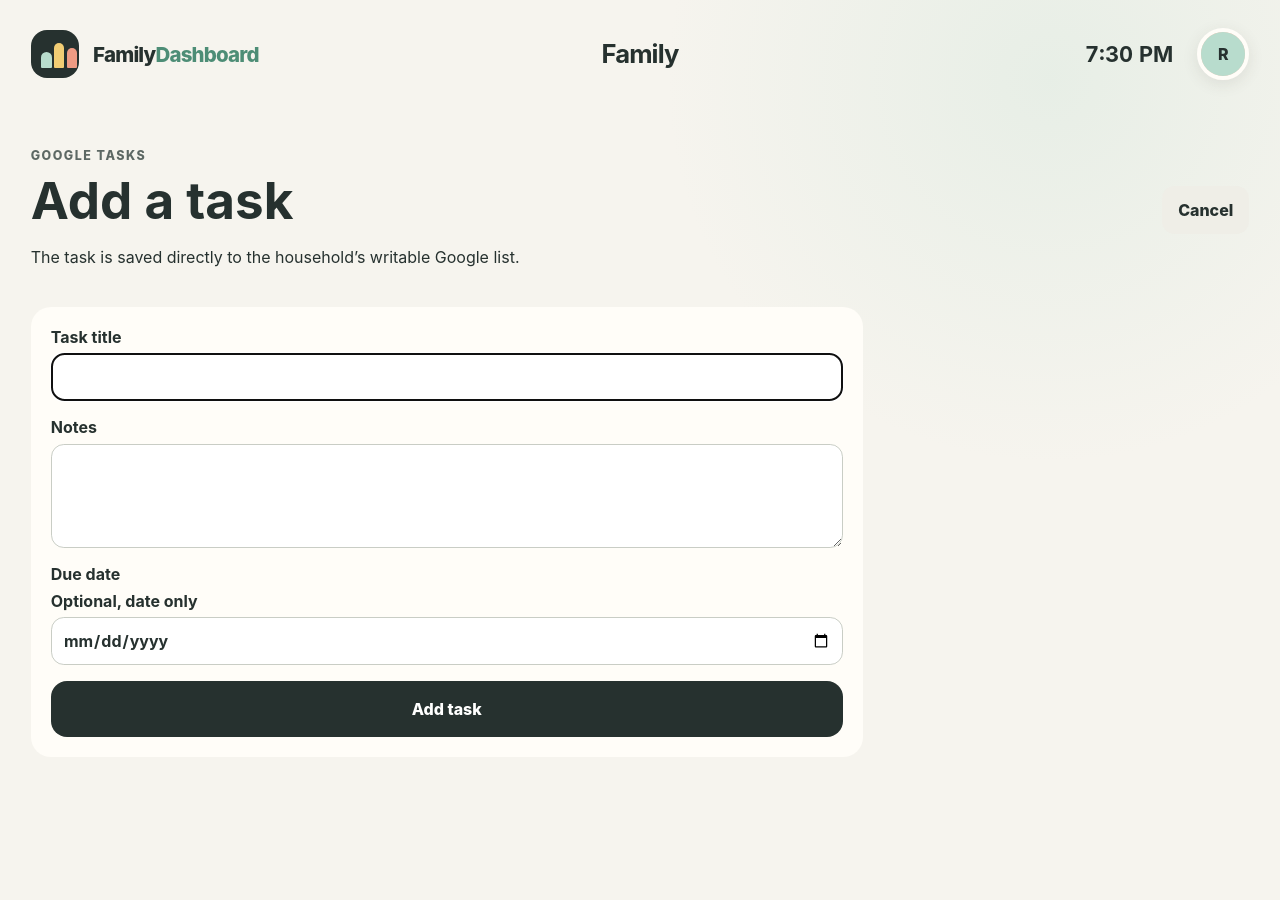
Test: Google Tasks › creates a task with date-only input and antiforgery
This screenshot has width=1280, height=900.
Type "Pack lunch" into the field labelled "Task title". click: (447, 378)
box: top-left (51, 354), bottom-right (843, 402)
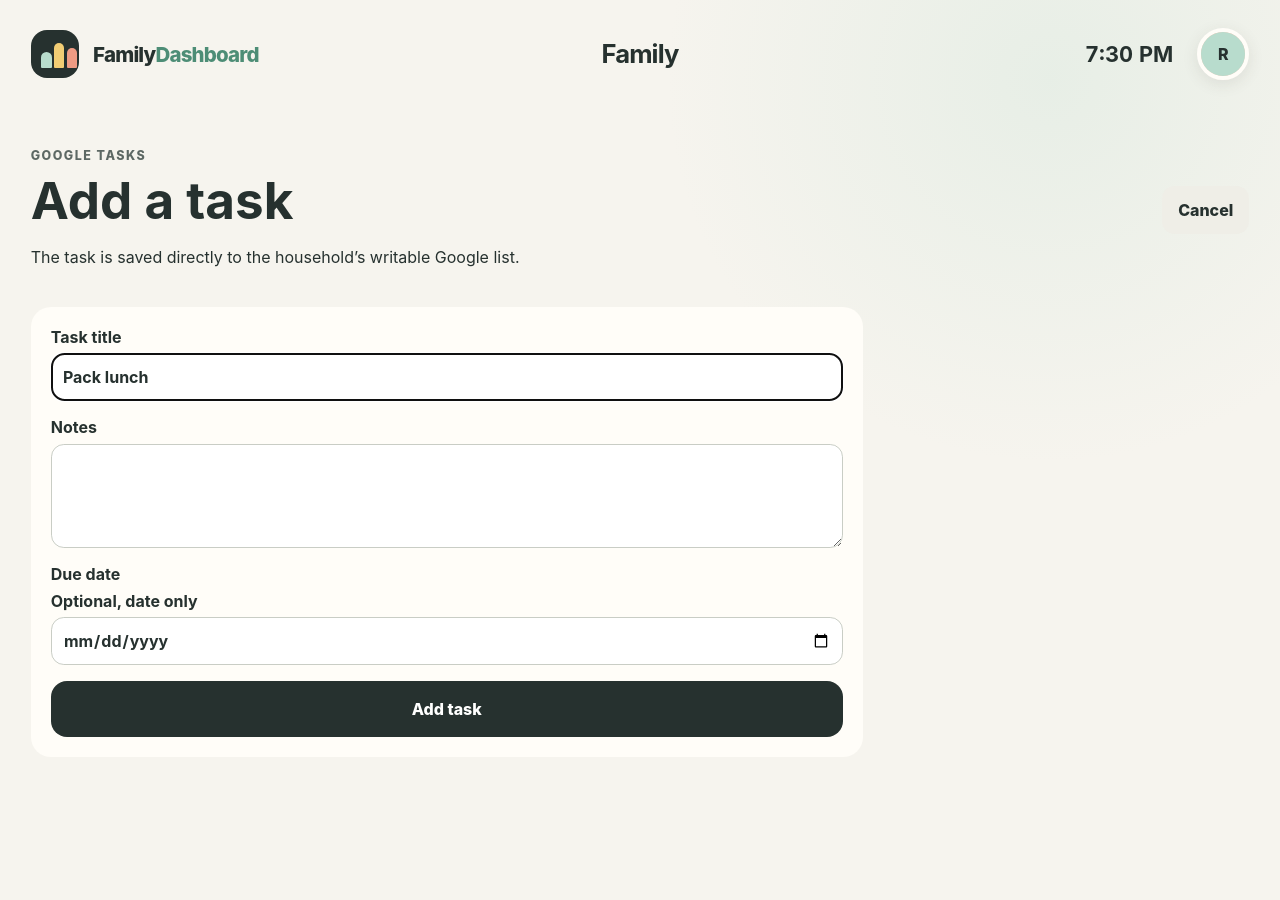
Type "2026-08-30" into the date field labelled "Due date Optional, date only". click: (447, 641)
box: top-left (51, 617), bottom-right (843, 665)
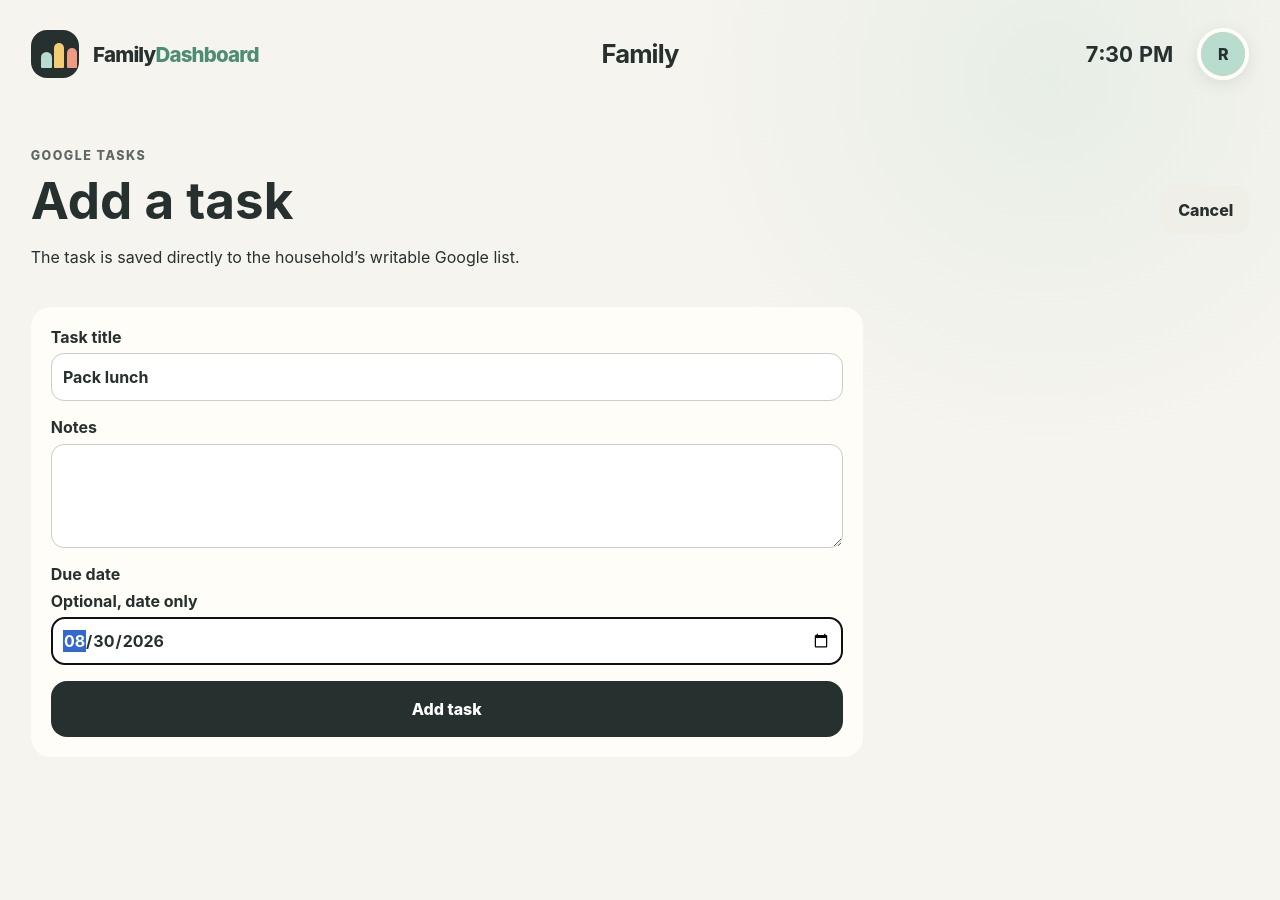
Click the button "Add task". click: (447, 709)
box: top-left (51, 681), bottom-right (843, 737)
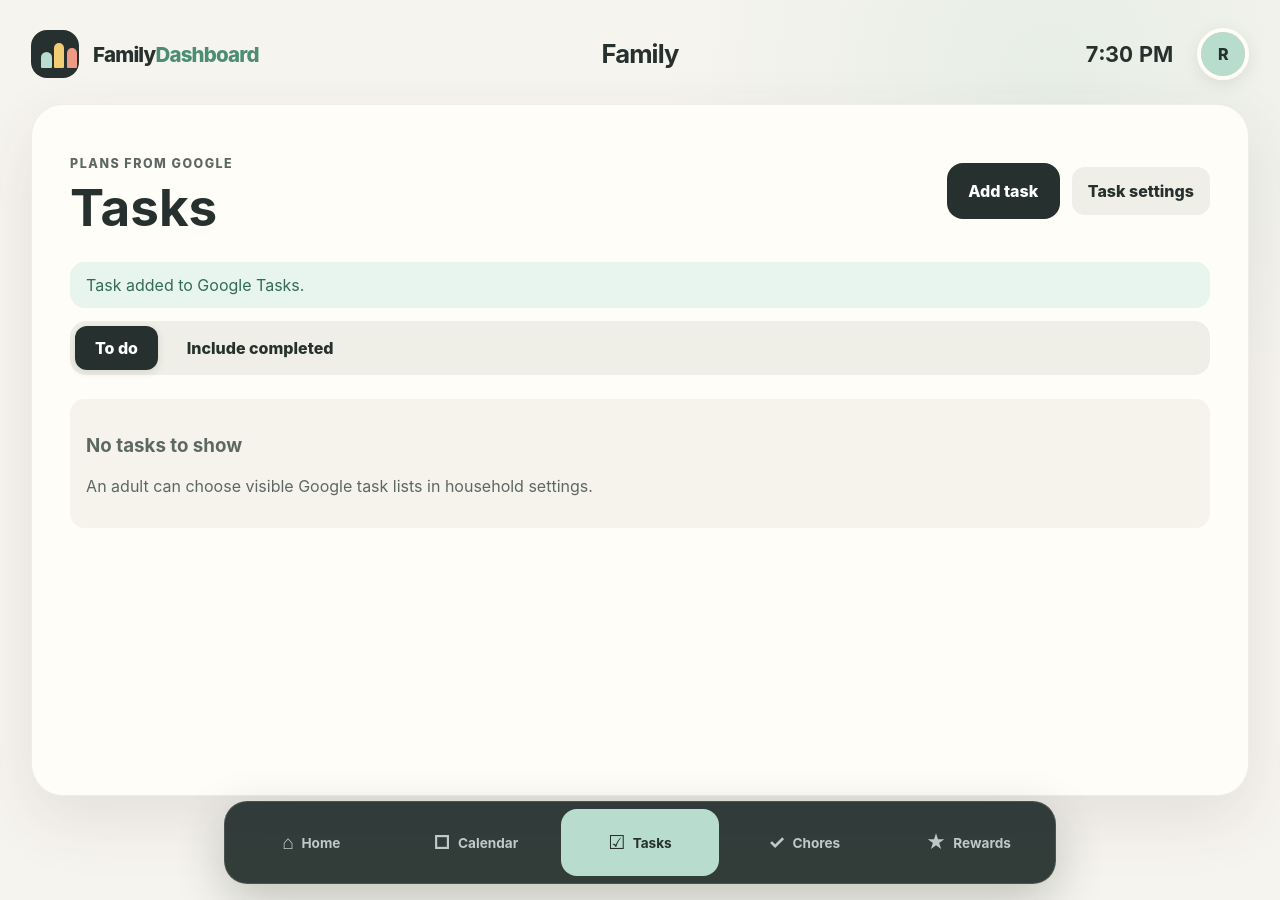
Now the text "Task added to Google Tasks." is shown, box top-left (70, 262), bottom-right (1210, 308)
